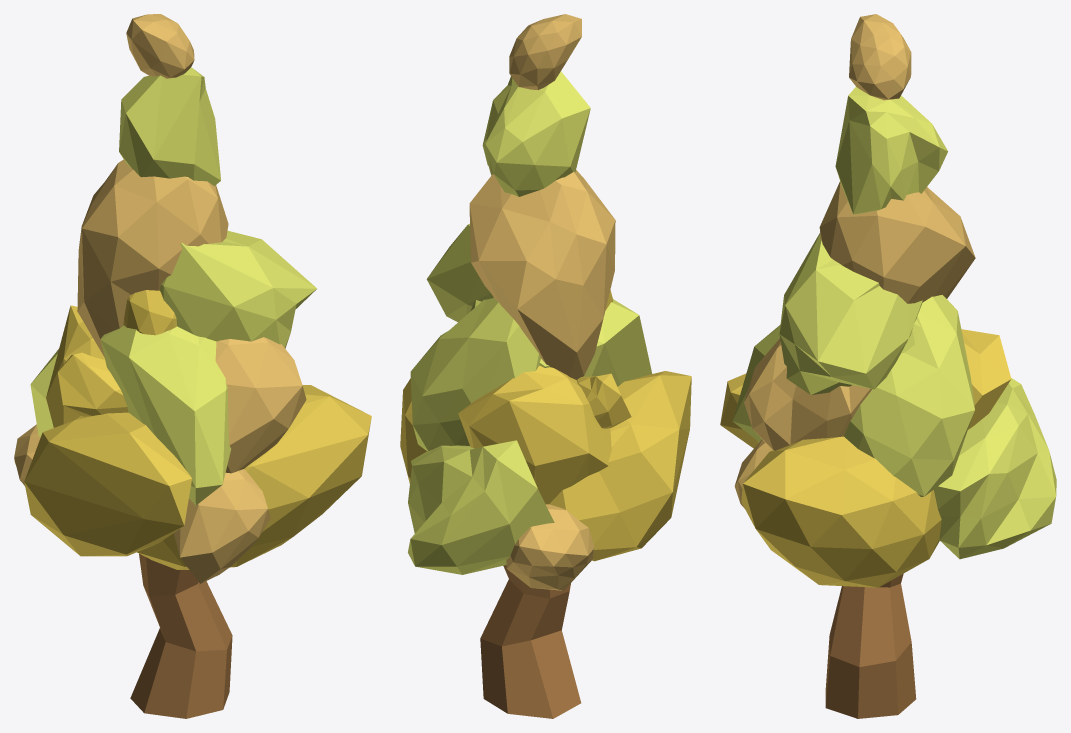
The model's file is LP_TreeYellowTriangular.fbx.
3 views of the same model, side by side, from view 1: azimuth 30°, elevation 25°; view 2: azimuth 150°, elevation 25°; view 3: azimuth 270°, elevation 25° (orthographic). The views are drawn at different scales.
Visible parts, largest first — view 1: TreeTriangular; view 2: TreeTriangular; view 3: TreeTriangular.
Part boxes in pixels (x1,y1,x2,y2): TreeTriangular: (14, 14, 371, 718); TreeTriangular: (400, 14, 691, 718); TreeTriangular: (720, 14, 1056, 718).
Size of the model in its own units: 187 by 417 by 191.
